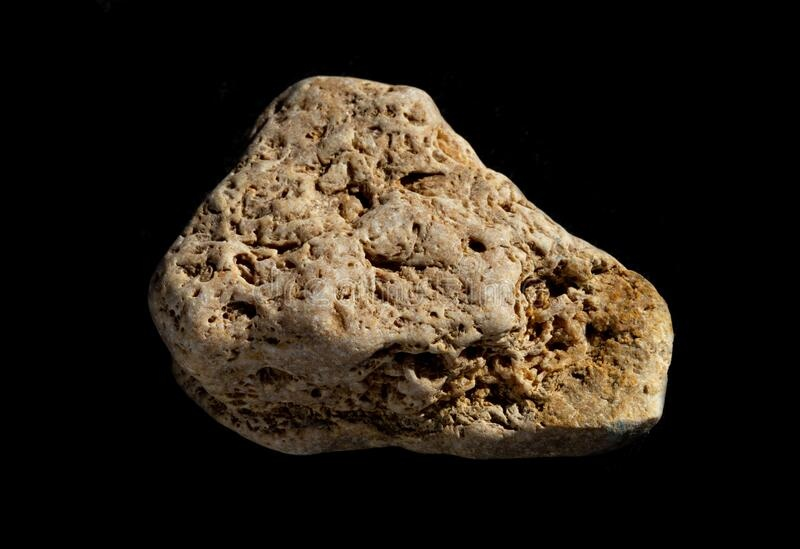obstacle: (149, 77, 672, 457)
